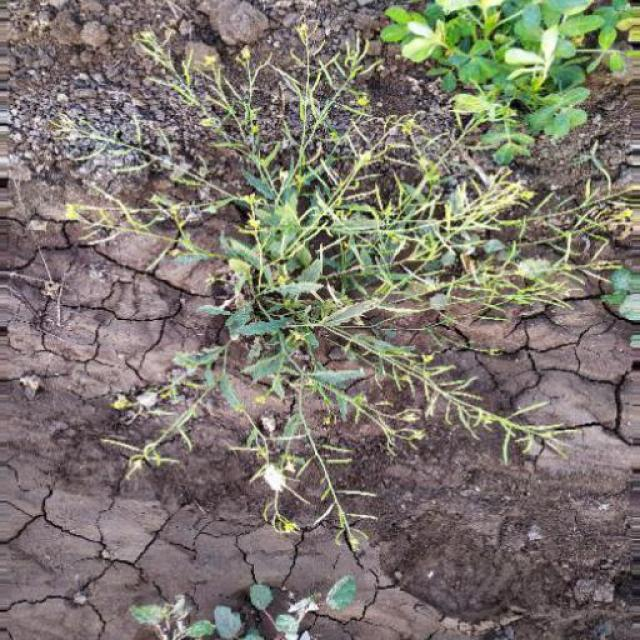weed: (49, 66, 605, 524)
